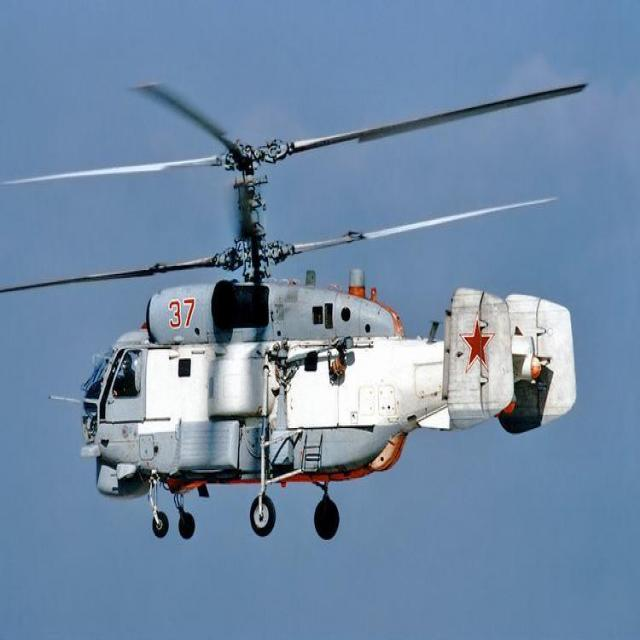MIL_HELO: (0, 64, 590, 546)
